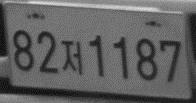1: (88, 34, 106, 79), (112, 35, 130, 80)
2: (37, 30, 59, 74)
7: (158, 39, 182, 83)
8: (134, 37, 158, 80), (12, 28, 35, 71)
저: (60, 39, 83, 76)
